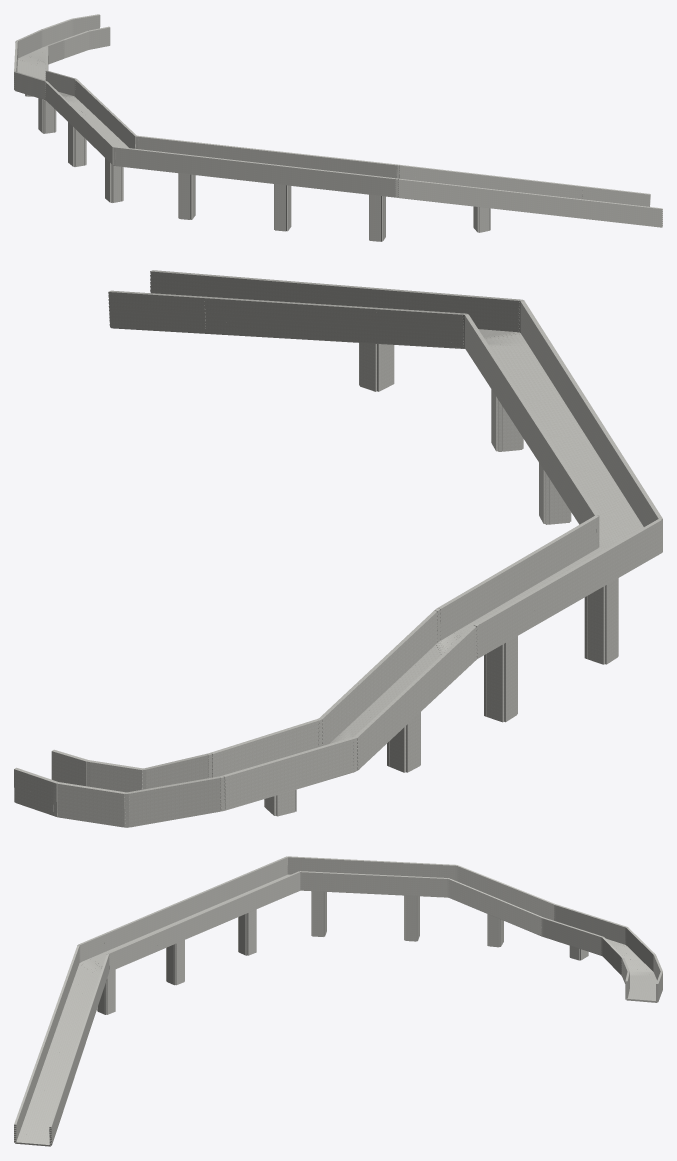
Rendered from Waterline (3).fbx.
3 renders of one model, top to bottom at view 1: azimuth 30°, elevation 25°; view 2: azimuth 150°, elevation 25°; view 3: azimuth 270°, elevation 25°, orthographic. The views are drawn at different scales.
Parts seen in each view (by area): view 1: Cube; view 2: Cube; view 3: Cube.
Part boxes in pixels (x1,y1,x2,y2): Cube: [14, 14, 662, 241]; Cube: [14, 270, 662, 827]; Cube: [14, 856, 662, 1146].
Size of the model in its own units: 21071 by 4009 by 27956.
